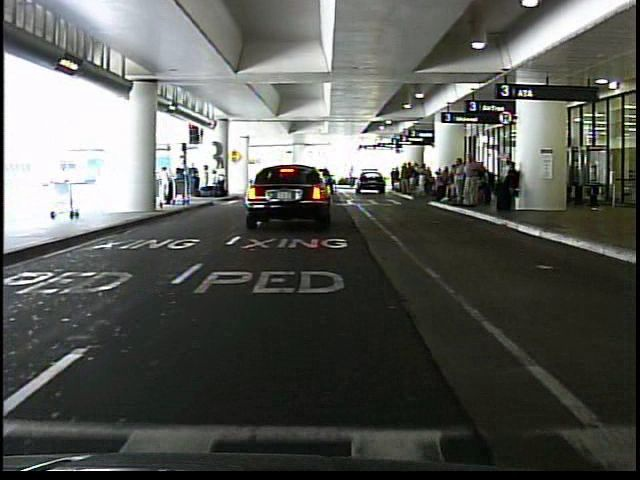person: (460, 150, 481, 211), (155, 165, 175, 218)
